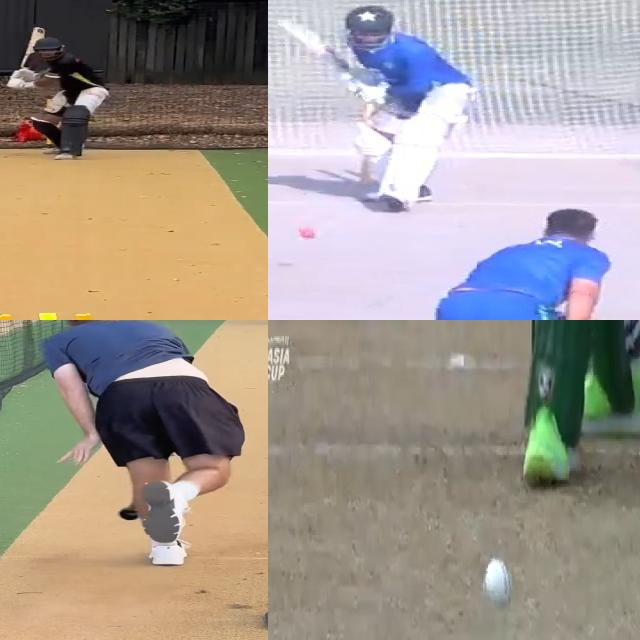Cricket ball: (481, 552, 514, 612), (296, 226, 317, 240)
